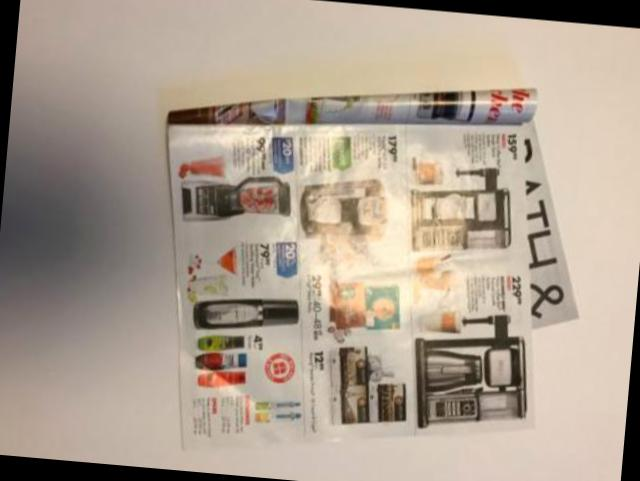cardboard paper: (170, 91, 578, 449)
